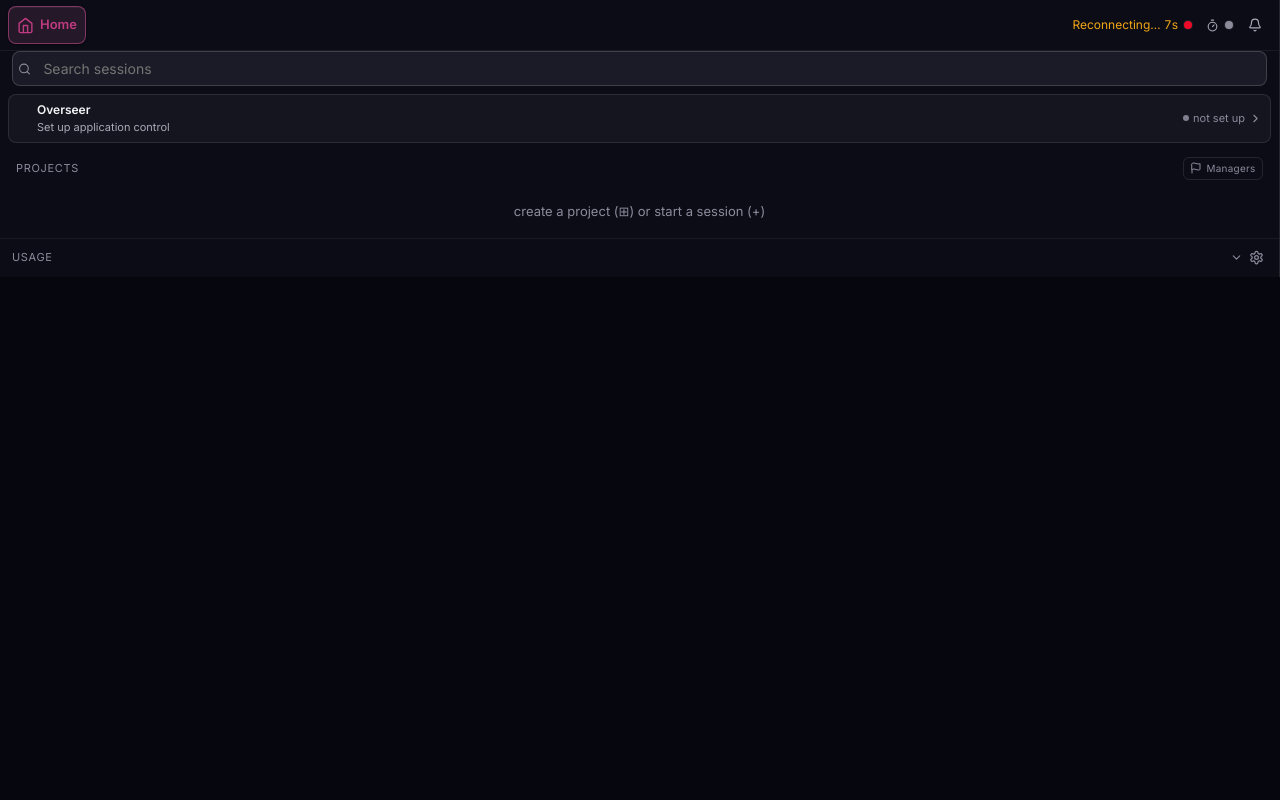
Scenario: compact system status indicators › reserves reconnecting language for a connection that was actually lost
Click the button with aria-label "Hub: reconnecting" at (1125, 24), box 92,11 -> 1199,39
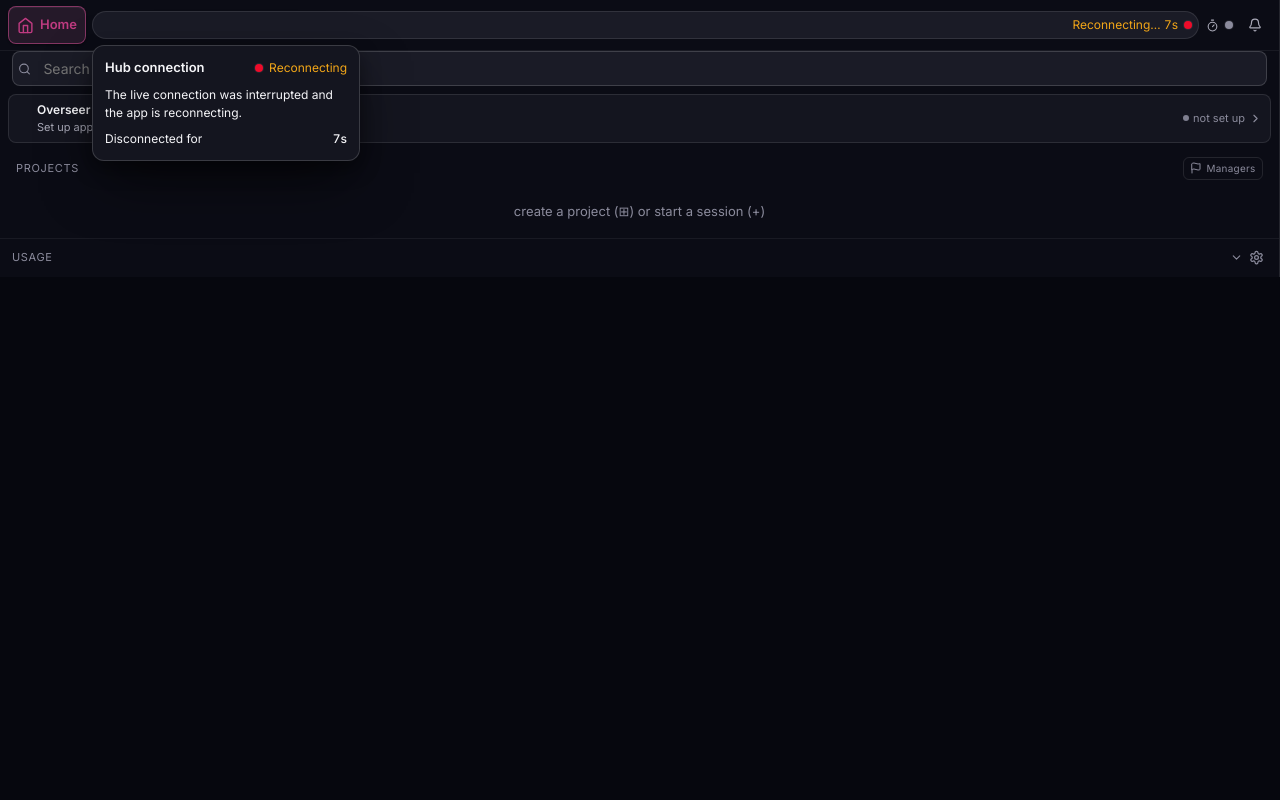
Check: the dialog "Hub connection" shows "live connection was interrupted", box 105,86 -> 333,120
